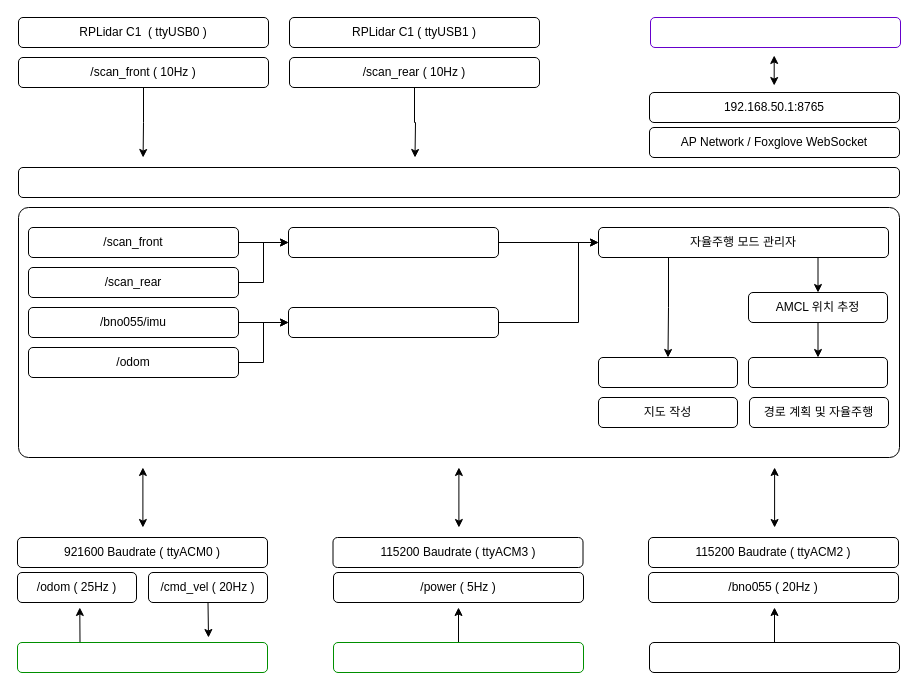
Some shapes in this 918 by 690 pixel diagram are drawn without their labels. Here are the shapes that lost their labels. From the top down, the centre of each, then its label:
At point 775,32: "Foxglove Studio ( PC )".
At point 459,182: "라즈베리파이 5".
At point 393,242: "LiDAR Scan 융합".
At point 393,322: "Odometry / IMU EKF 융합".
At point 668,372: "SLAM".
At point 818,372: "Nav2".
At point 142,657: "모터 제어 RP2350".
At point 458,657: "전원 관리 RP2350".
At point 774,657: "BNO055".
